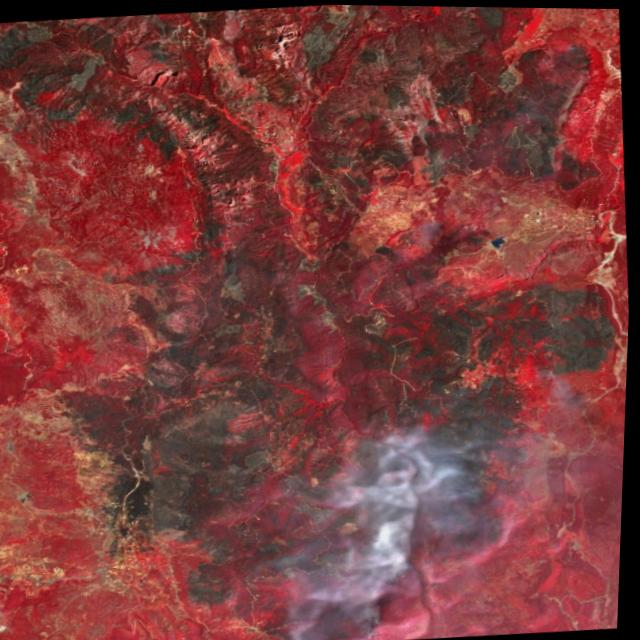fire: (346, 527, 445, 640), (515, 344, 576, 390), (406, 201, 465, 248)
